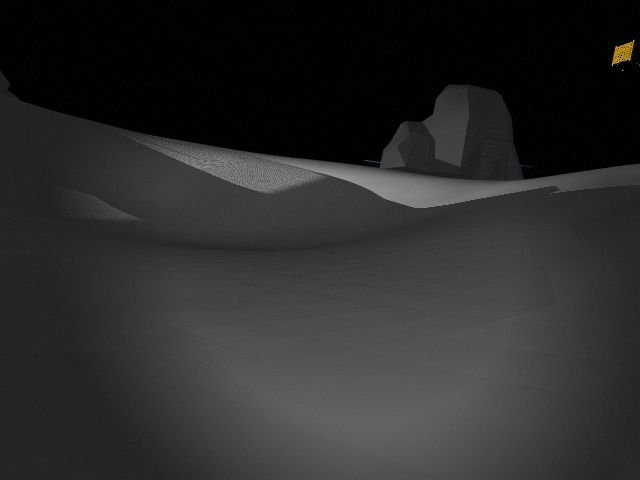cubesat: (605, 34, 640, 77)
